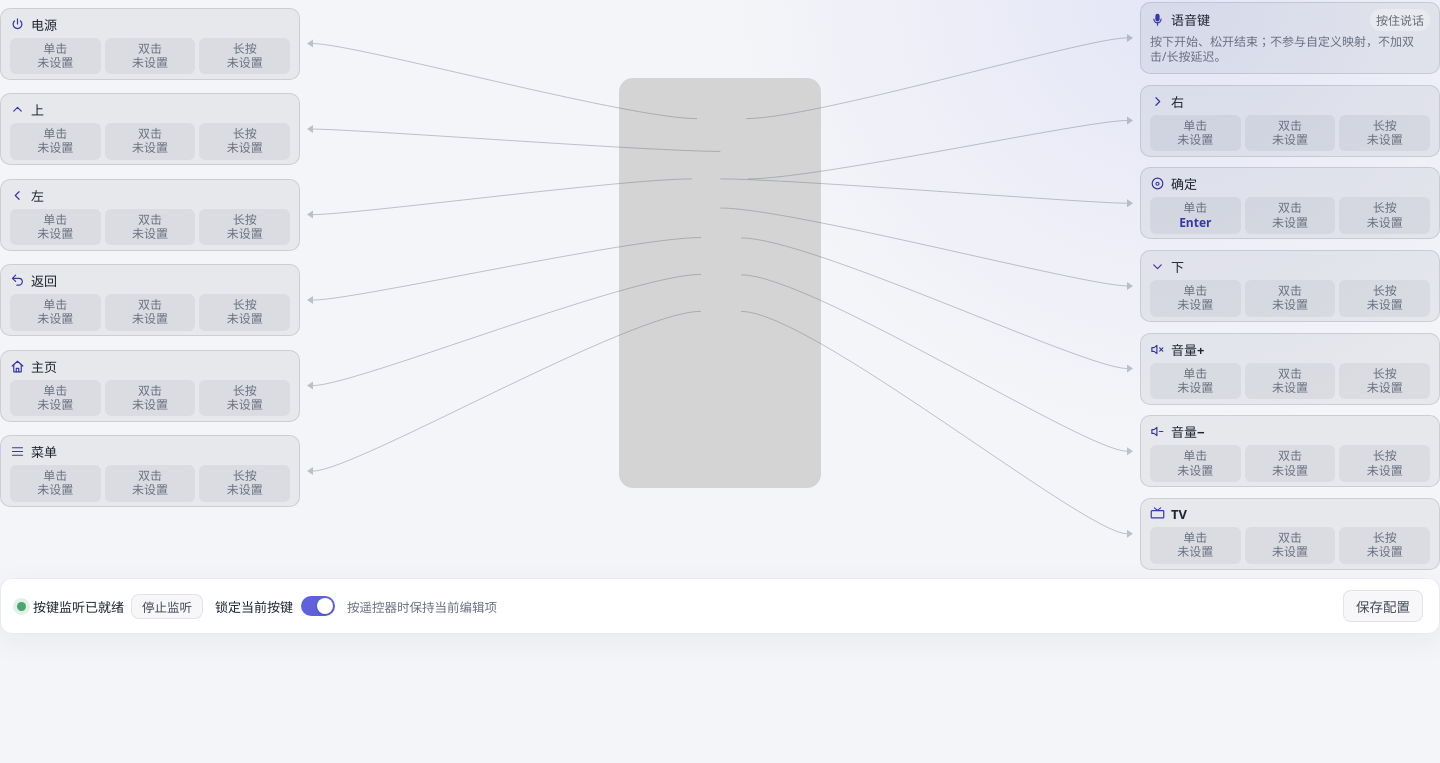
Test: buttons mapping page › 全开放：确定·单击所有操作可配（注入链路已真机验证）+ 单响应提示
This screenshot has width=1440, height=763.
Expected: the element with class "mapping-card" showing "确定 单击 Enter 双击 未设置 长按 未设置" is shown, [1140, 167, 1439, 239]
Click the button with class "mapping-cell" showing "单击 Enter".
click(1195, 216)  # box [1150, 197, 1241, 234]
(page scrolled)
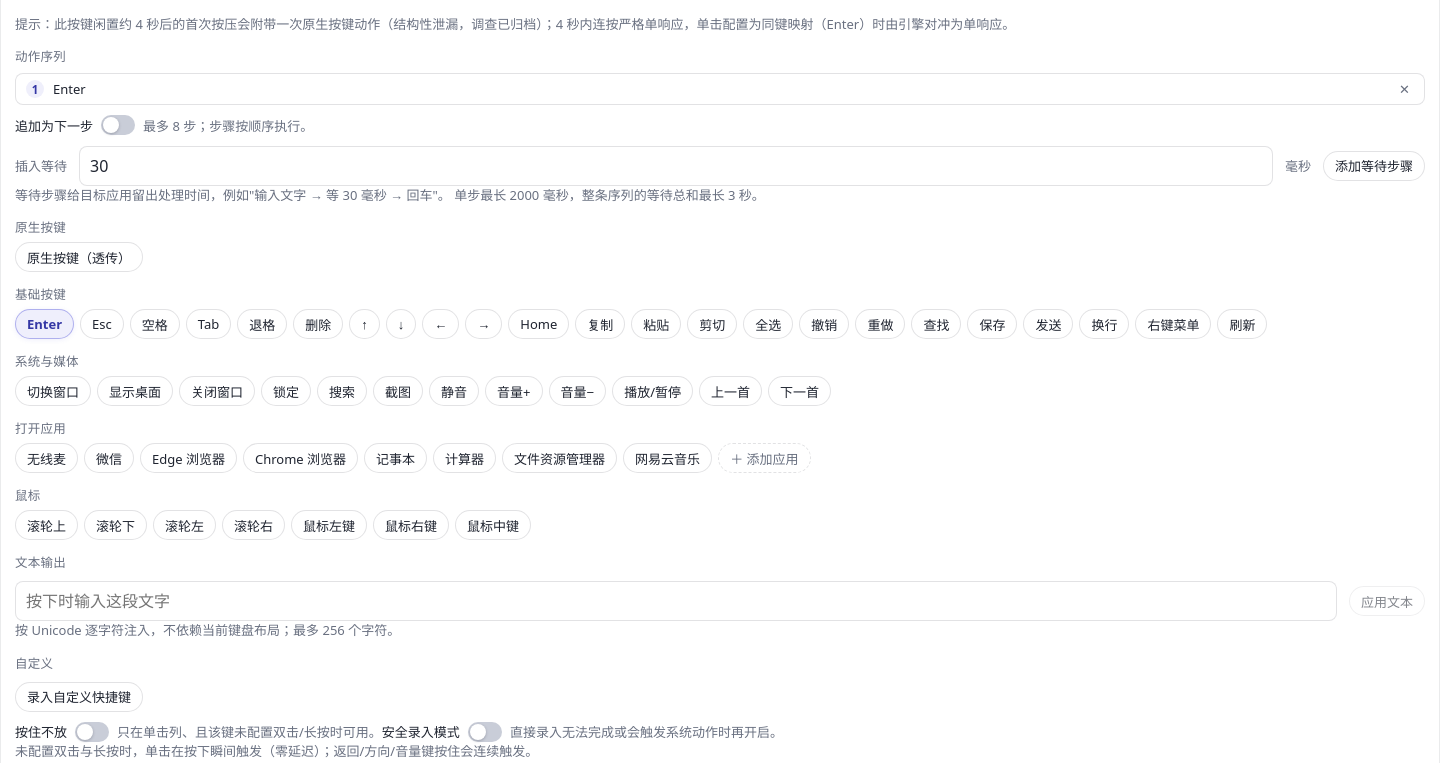
Expected: the button with class "chip" showing "Enter" is shown, [15, 309, 74, 339]
Expected: the button with class "chip" showing "Home" is shown, [508, 309, 569, 339]
Expected: the button with class "chip" showing "空格" is shown, [130, 309, 180, 339]
